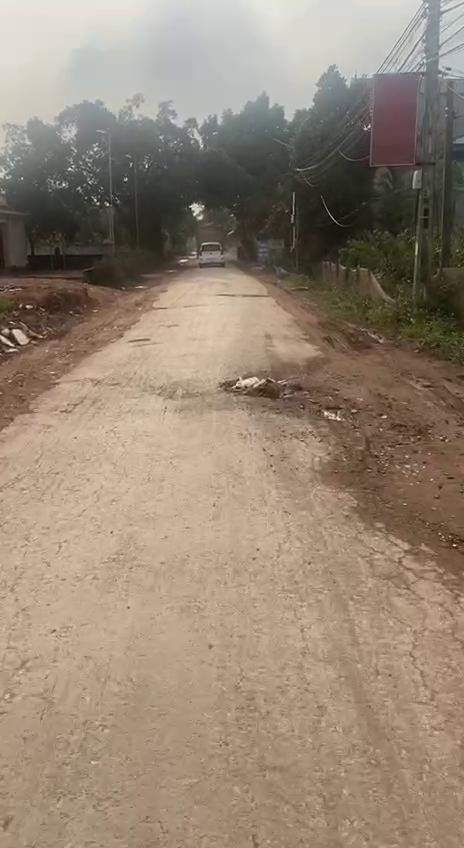pothole: (215, 372, 306, 409)
